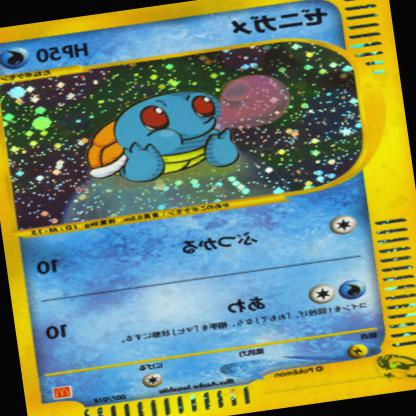Squirtle: (73, 80, 244, 191)
